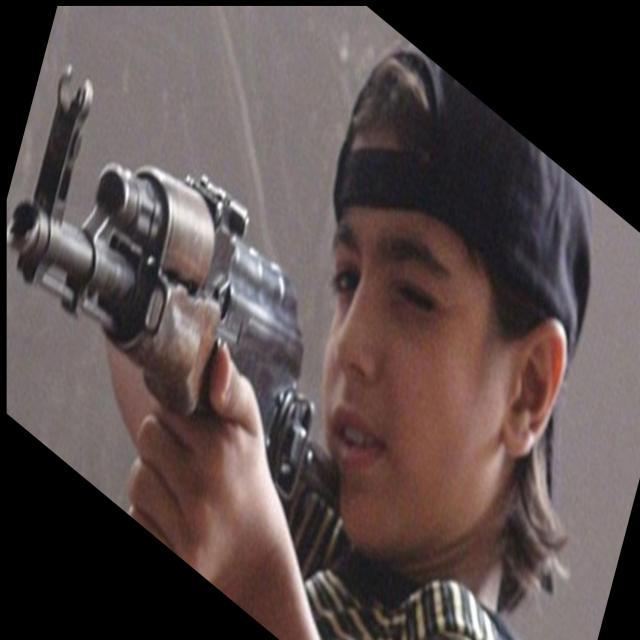weapon: (6, 68, 342, 504)
